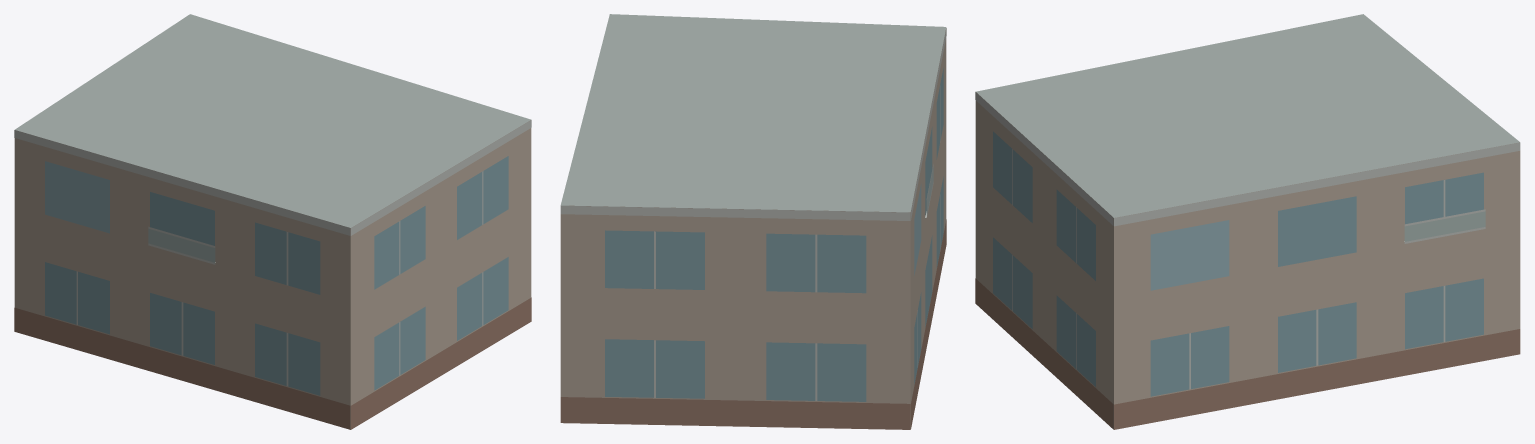
The model's file is survey-upis-32945204.glb.
3 views of the same model, side by side, from view 1: azimuth 30°, elevation 25°; view 2: azimuth 150°, elevation 25°; view 3: azimuth 270°, elevation 25° (orthographic). The views are drawn at different scales.
Parts seen in each view (by area): view 1: survey-upis-32945204.tmp; view 2: survey-upis-32945204.tmp; view 3: survey-upis-32945204.tmp.
Part boxes in pixels (left/top/right/bottom): survey-upis-32945204.tmp: left=14, top=14, right=531, bottom=429; survey-upis-32945204.tmp: left=560, top=14, right=946, bottom=429; survey-upis-32945204.tmp: left=975, top=14, right=1520, bottom=429.
Bounding box in the file's own units: 12.6 × 6.1 × 14.22.
